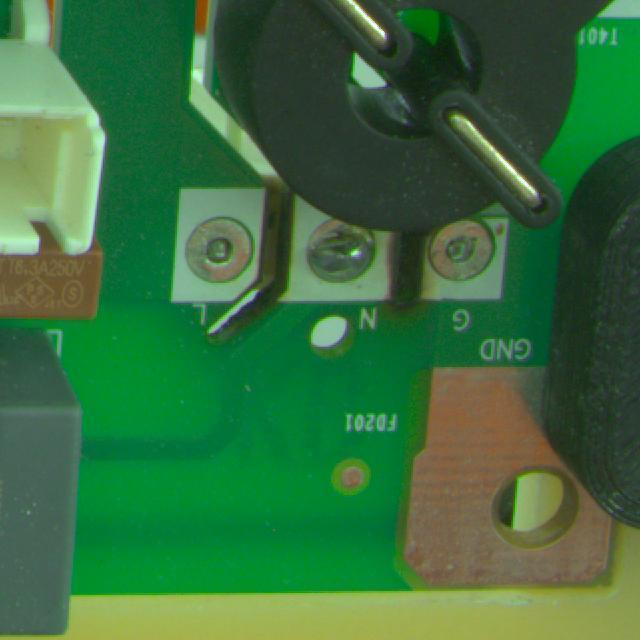Insufficient solder: (425, 219, 500, 295), (182, 207, 257, 280)
